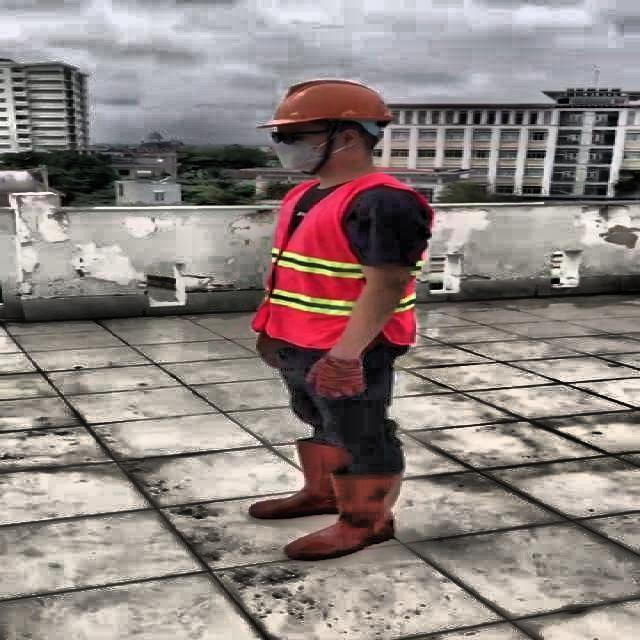safety_helmet: (260, 78, 400, 130)
safety_jacket: (256, 183, 430, 350)
